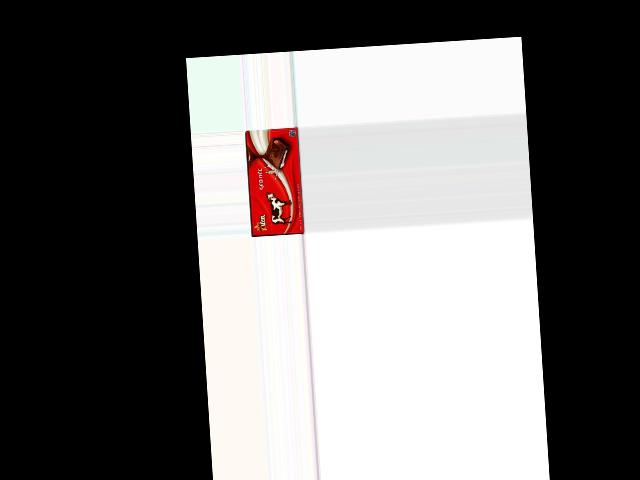chocolate: (245, 127, 305, 239)
